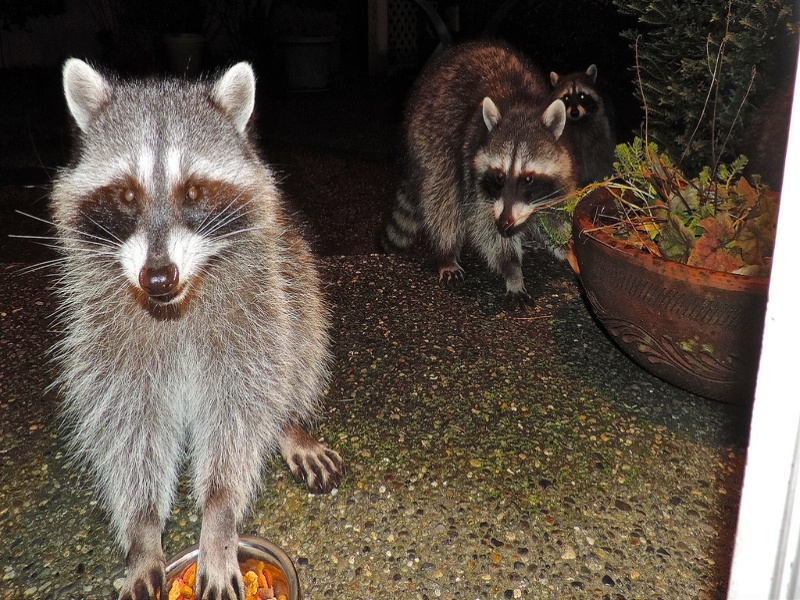raccoon: (38, 55, 353, 596), (379, 40, 574, 308), (546, 58, 615, 216)
